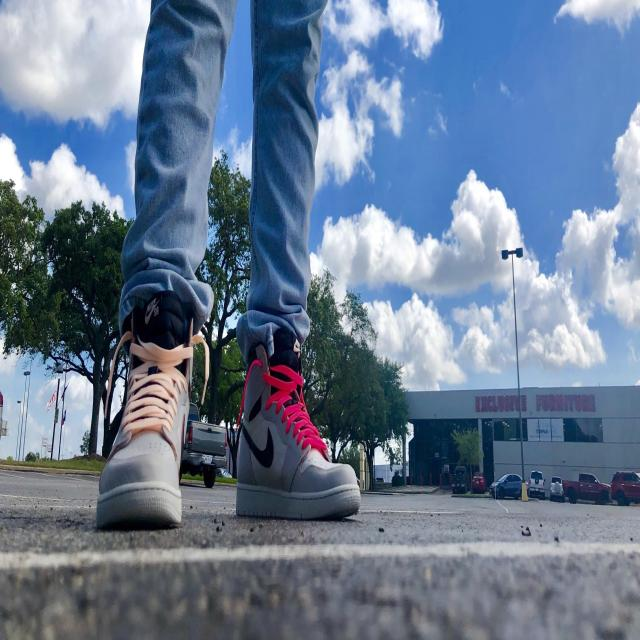shoe: (95, 288, 200, 532), (234, 324, 362, 523)
